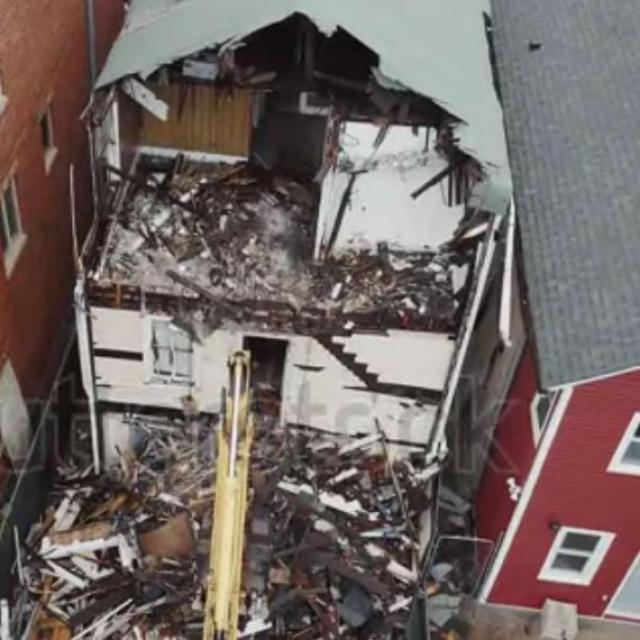collapsed_building: (81, 15, 496, 632)
